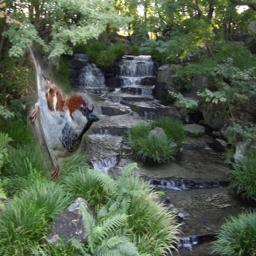Sparrow: (27, 43, 100, 182)
